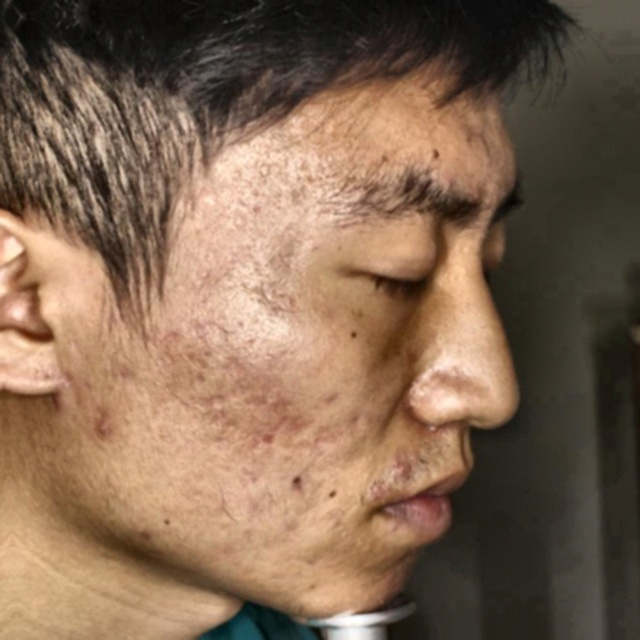comedone: (382, 451, 426, 484), (248, 420, 286, 456), (85, 412, 115, 444)
